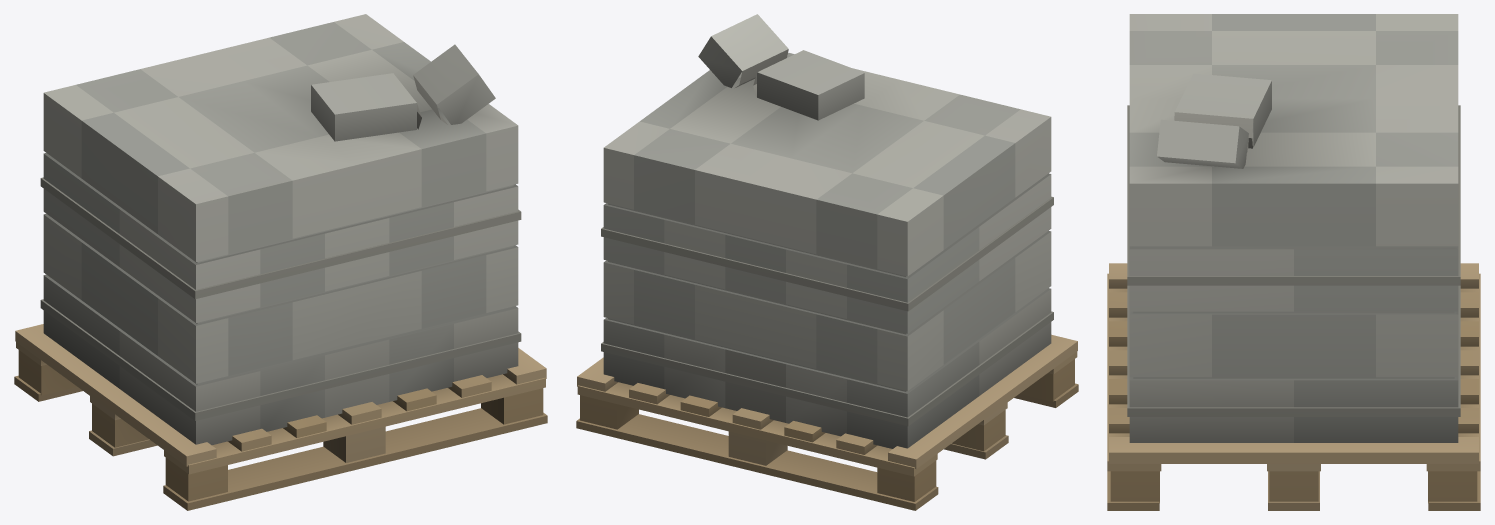
The model's file is pallet.glb.
3 renders of one model, left to right at view 1: azimuth 30°, elevation 25°; view 2: azimuth 150°, elevation 25°; view 3: azimuth 270°, elevation 25°, orthographic. The views are drawn at different scales.
Visible parts, largest first — view 1: pallet.001; view 2: pallet.001; view 3: pallet.001.
Part boxes in pixels (x1=…): pallet.001: x1=14, y1=14, x2=547, y2=510; pallet.001: x1=576, y1=14, x2=1078, y2=510; pallet.001: x1=1107, y1=14, x2=1480, y2=510.
Size of the model in its own units: 1.32 by 1.2 by 1.1.
